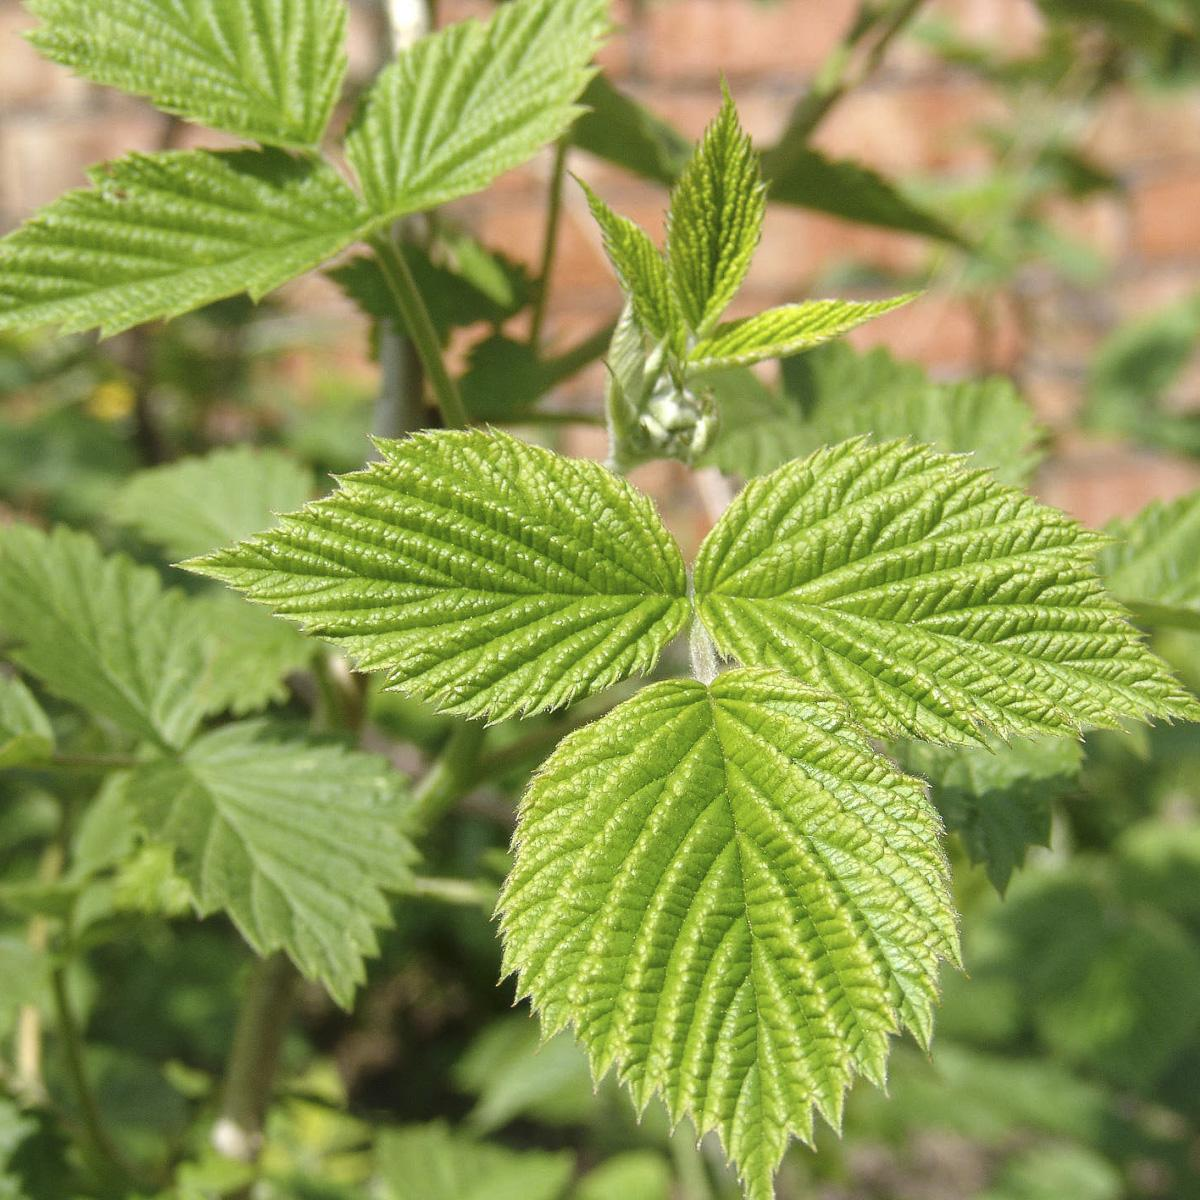Raspberry leaf: (499, 658, 969, 1197), (166, 419, 699, 726), (689, 434, 1200, 745)
